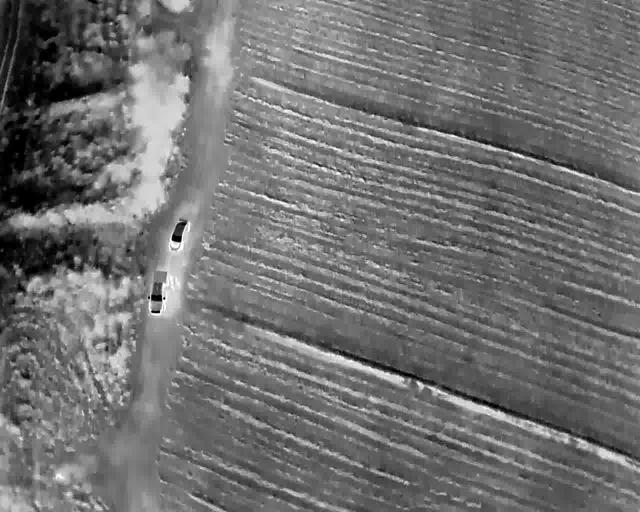car: (149, 269, 167, 314), (170, 216, 187, 252)
person: (54, 472, 64, 480)
